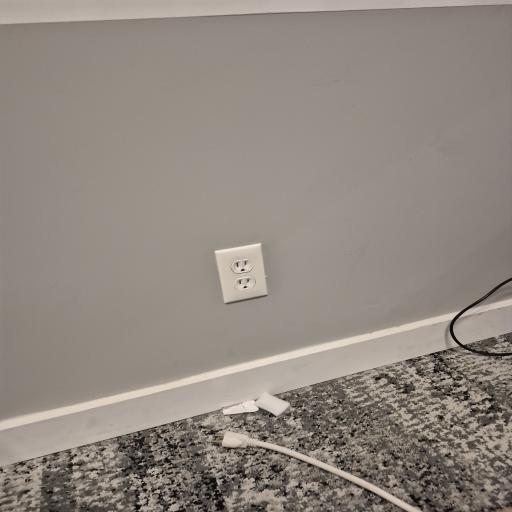outlet: (203, 245, 272, 299)
